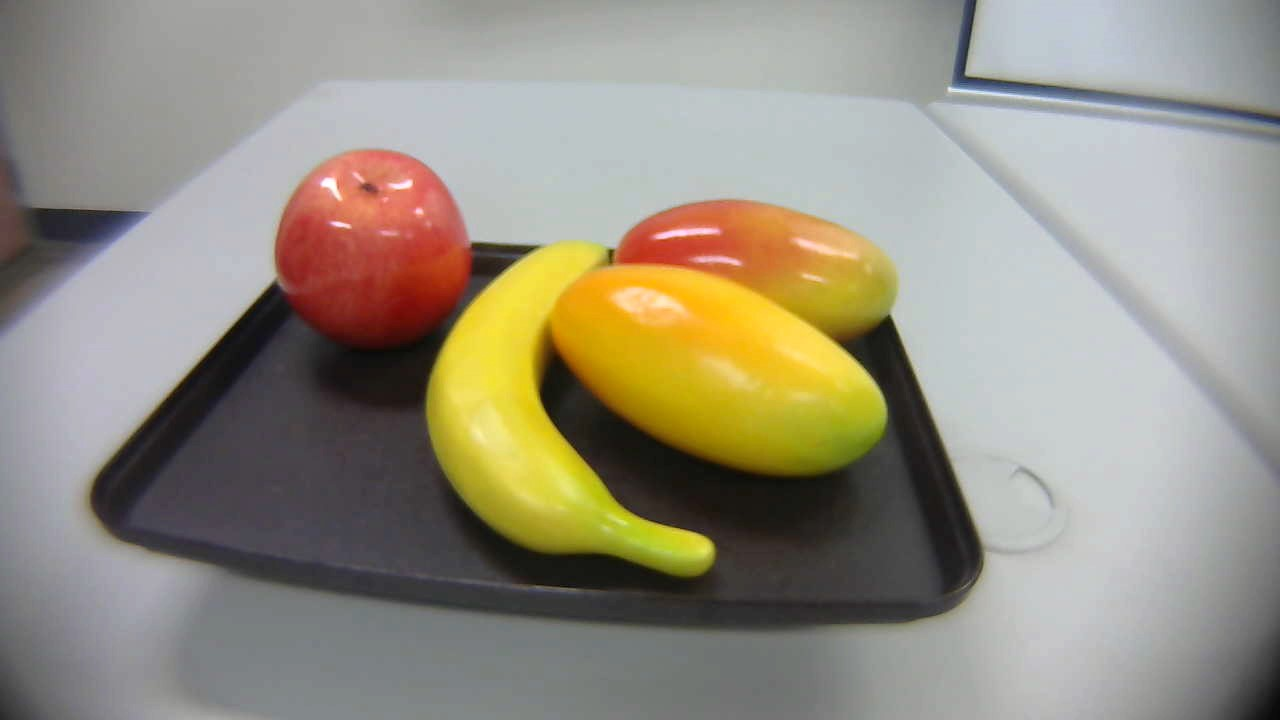banana: (390, 238, 763, 593)
red apple: (272, 143, 477, 358)
red mango: (607, 189, 903, 363)
yellow mango: (553, 254, 898, 506)
